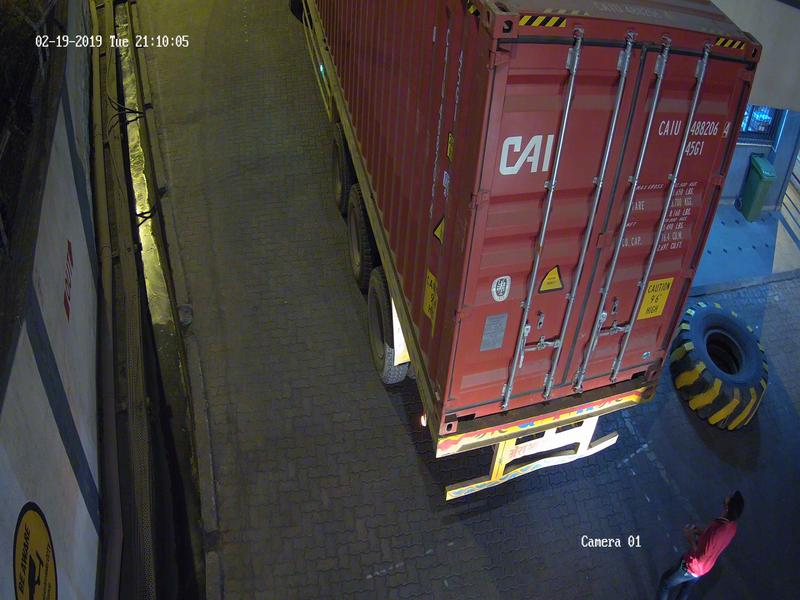container: (290, 3, 771, 413)
